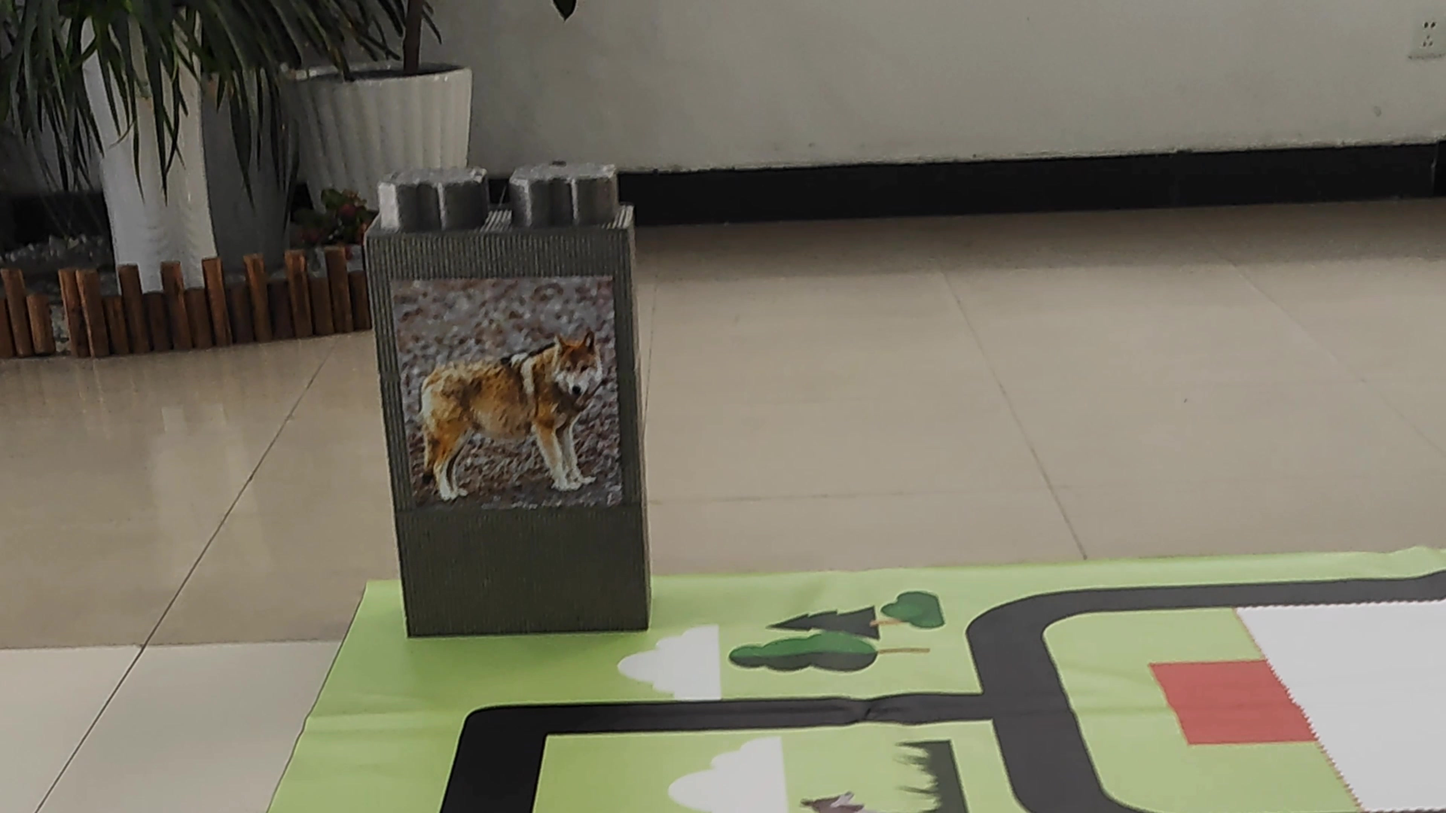wolf: (390, 267, 613, 501)
